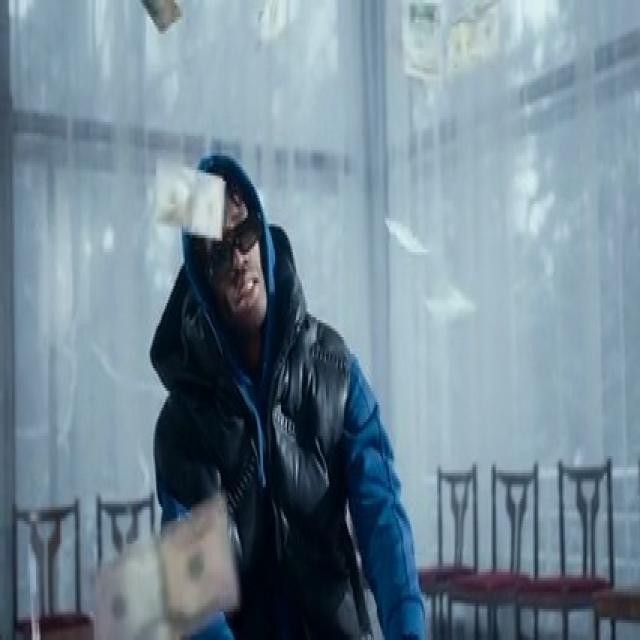Jacket_Wearer: (149, 269, 399, 640)
Person: (147, 119, 417, 640)
